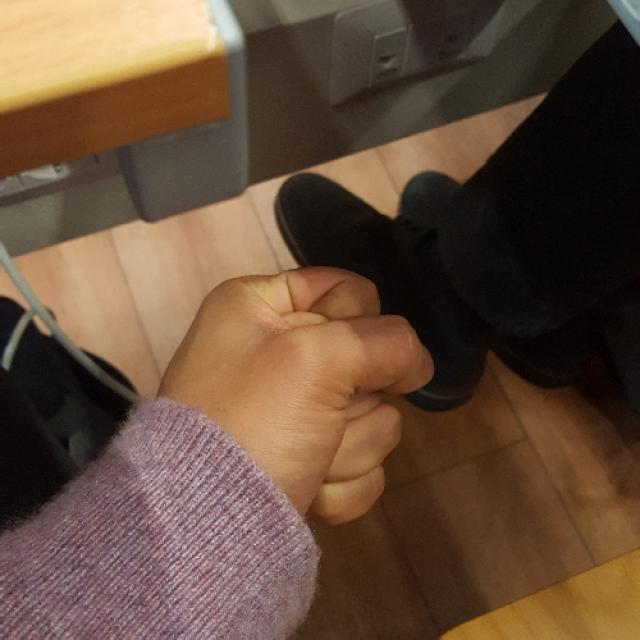fist: (146, 246, 446, 558)
